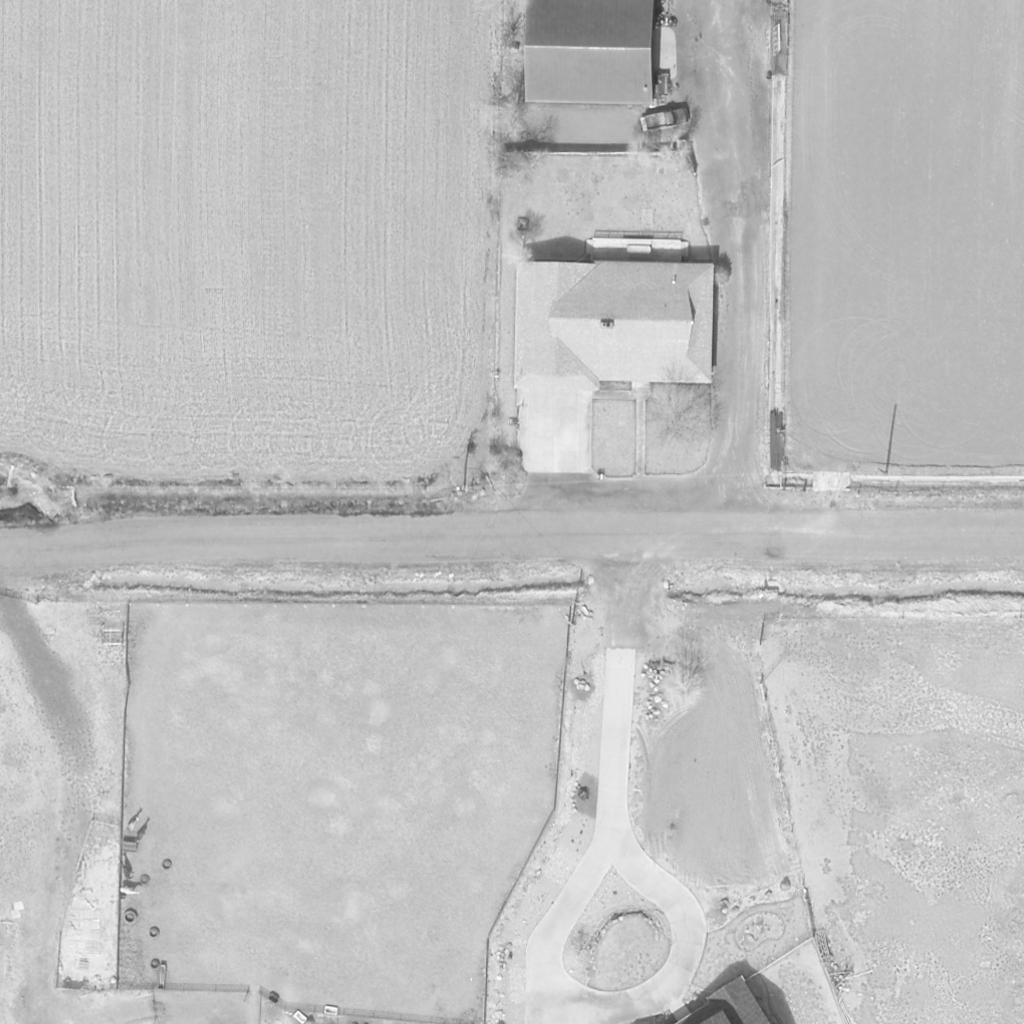vehicle: (639, 108, 691, 132)
